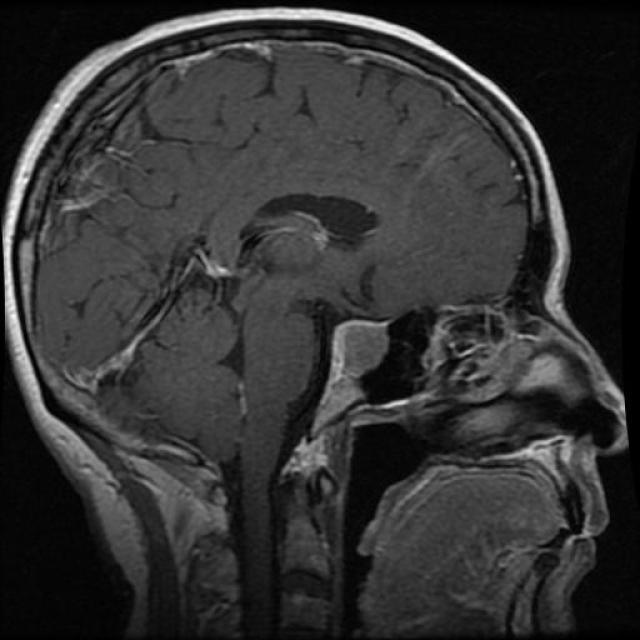pituitary: (288, 275, 395, 439)
